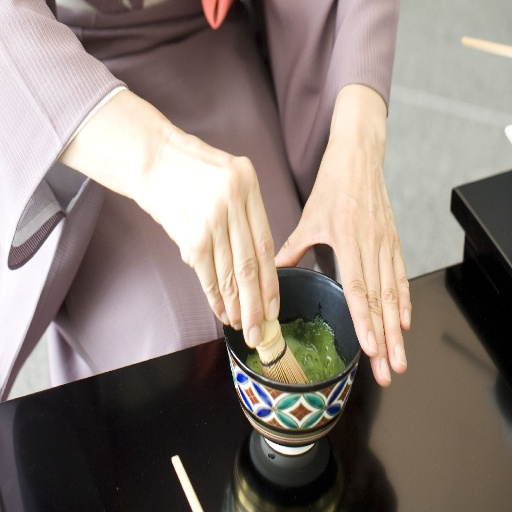hand: (272, 137, 413, 389), (147, 131, 280, 347)
